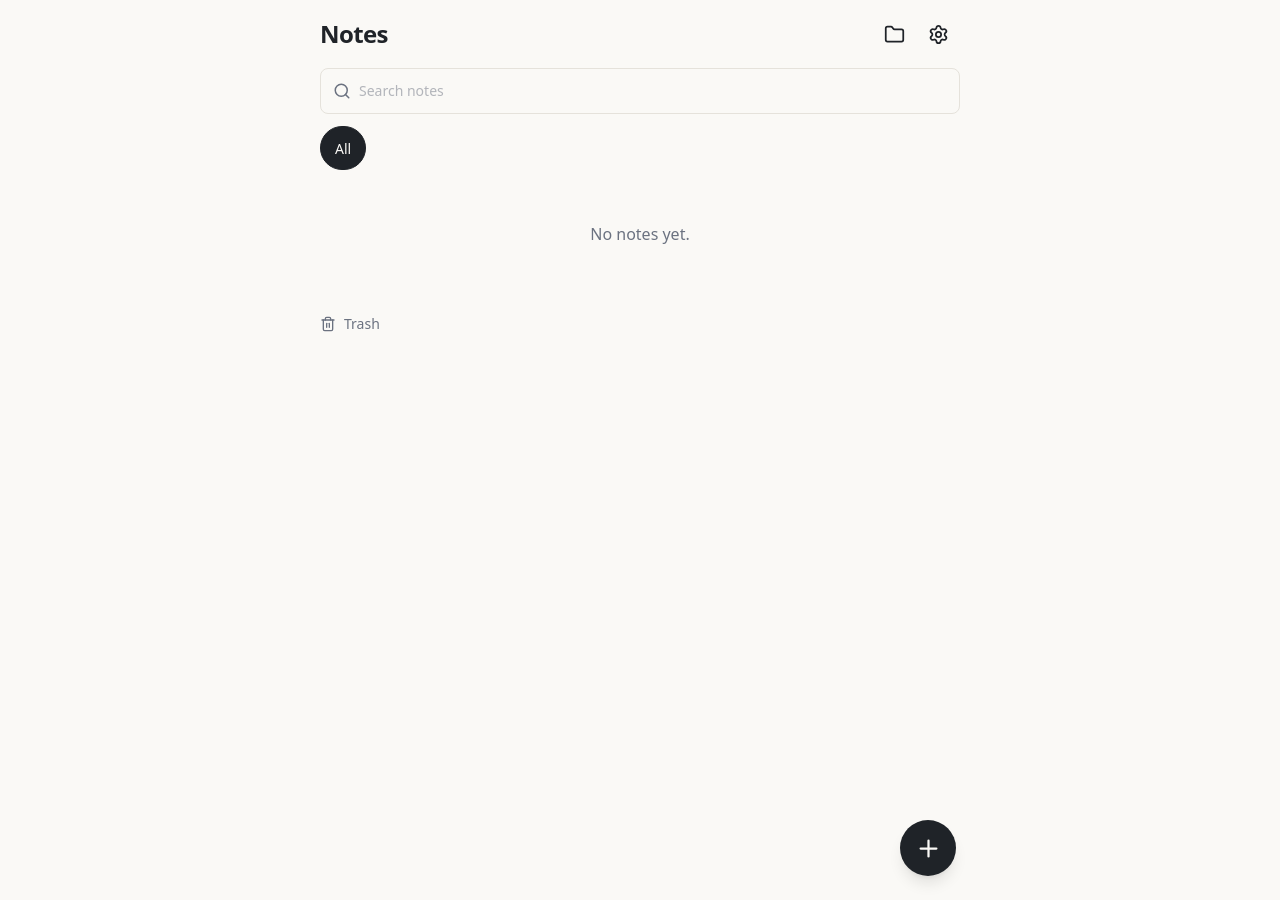
Test case: rolls back style save and deletion if a later preference write fails, and keeps the error visible
Click the button named "Settings" at [938, 34], box top-left (916, 12), bottom-right (960, 56)
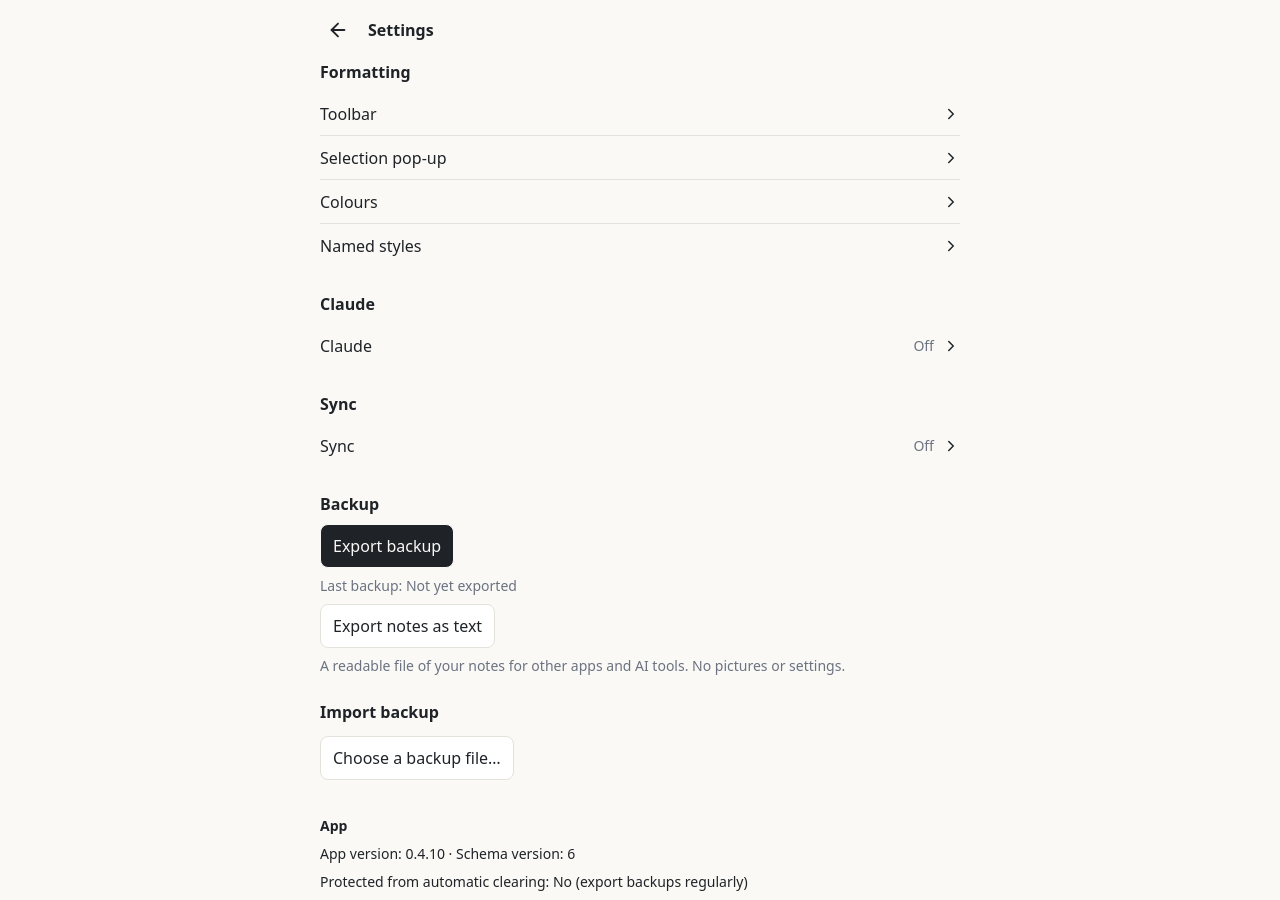
Click the button "Named styles" at [371, 246], box top-left (320, 224), bottom-right (960, 268)
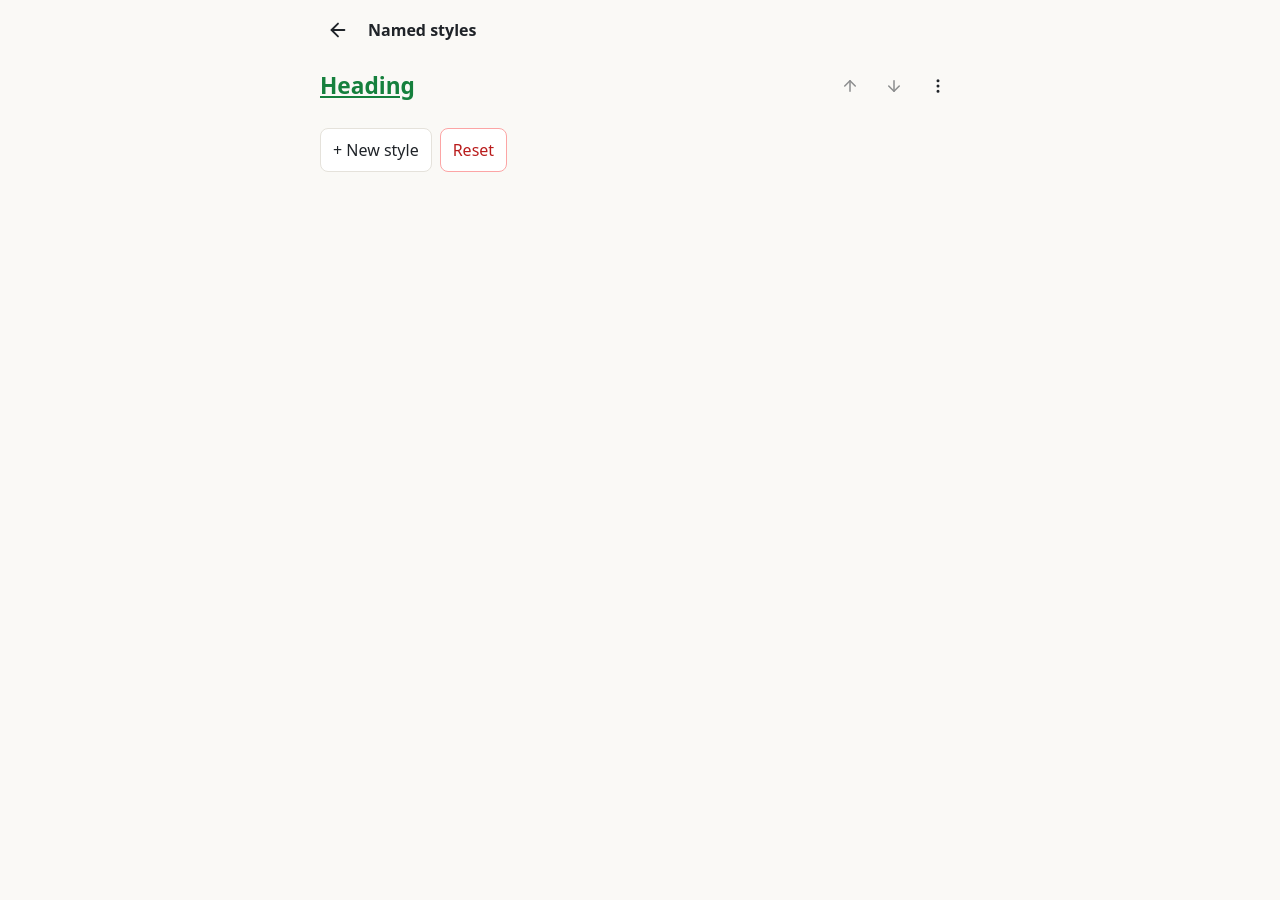
Click the button "+ New style" at [376, 150], box top-left (320, 128), bottom-right (432, 172)
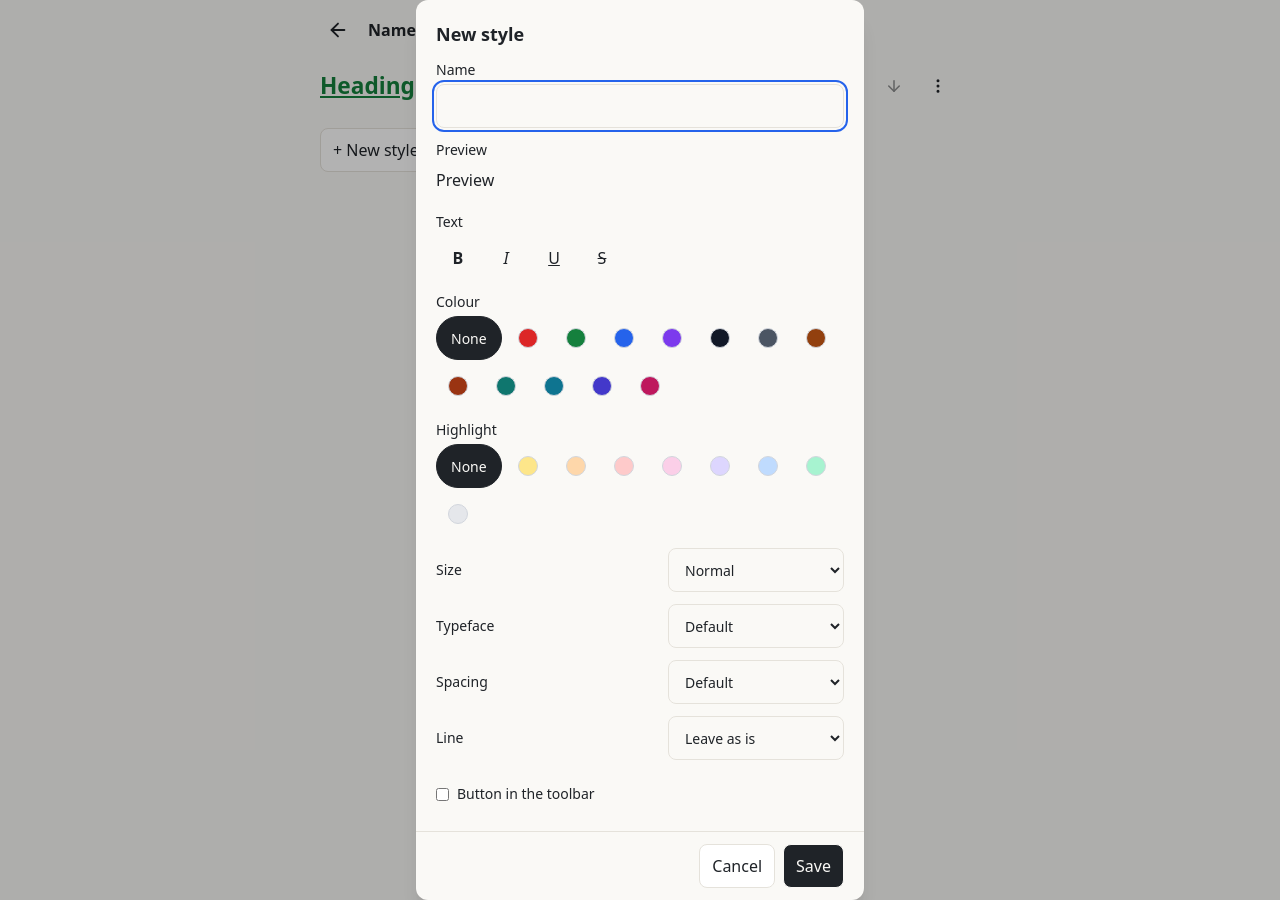
Type "Not saved" into the field labelled "Name" at [640, 106], box top-left (436, 84), bottom-right (844, 128)
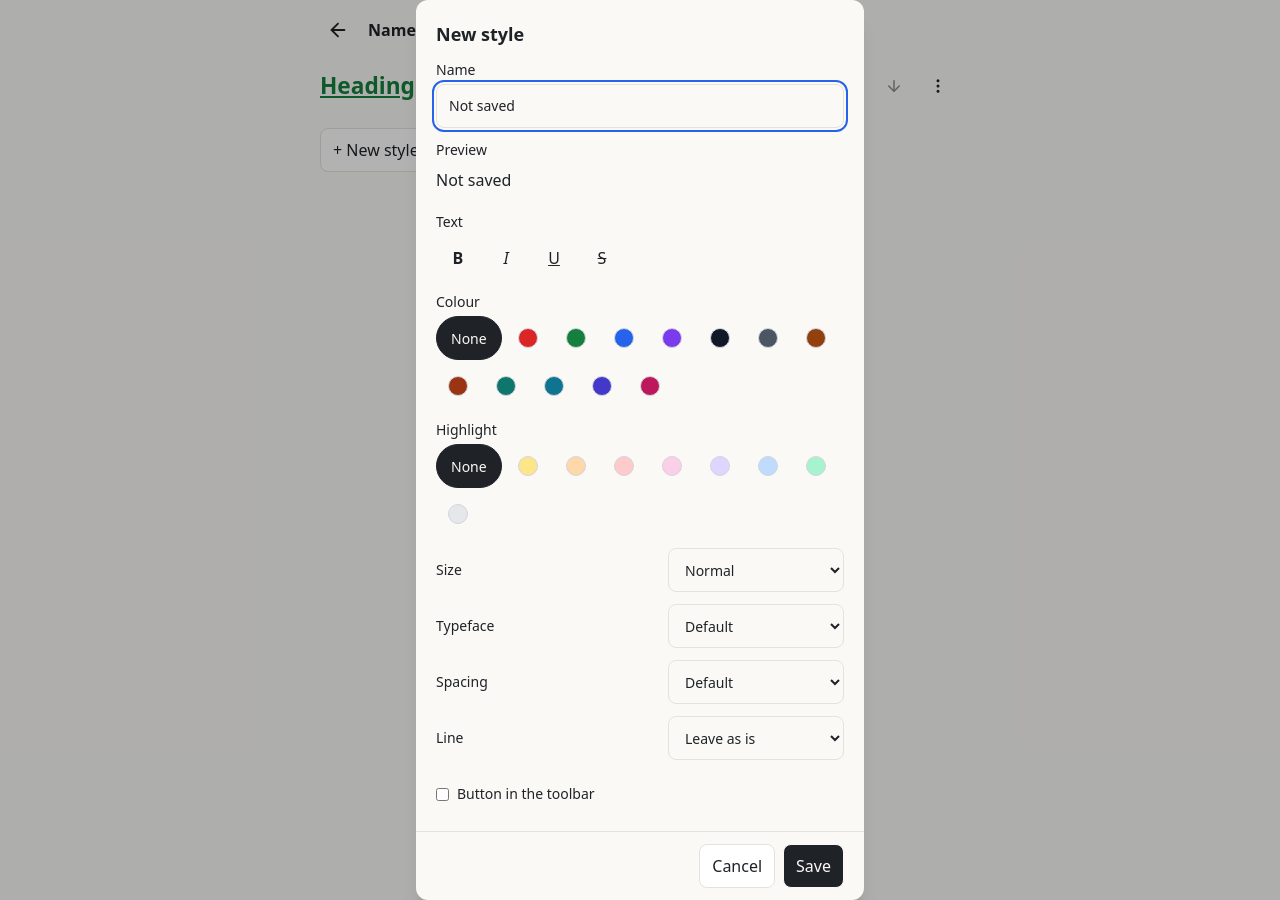
Click the switch at [442, 794], box top-left (436, 788), bottom-right (449, 800)
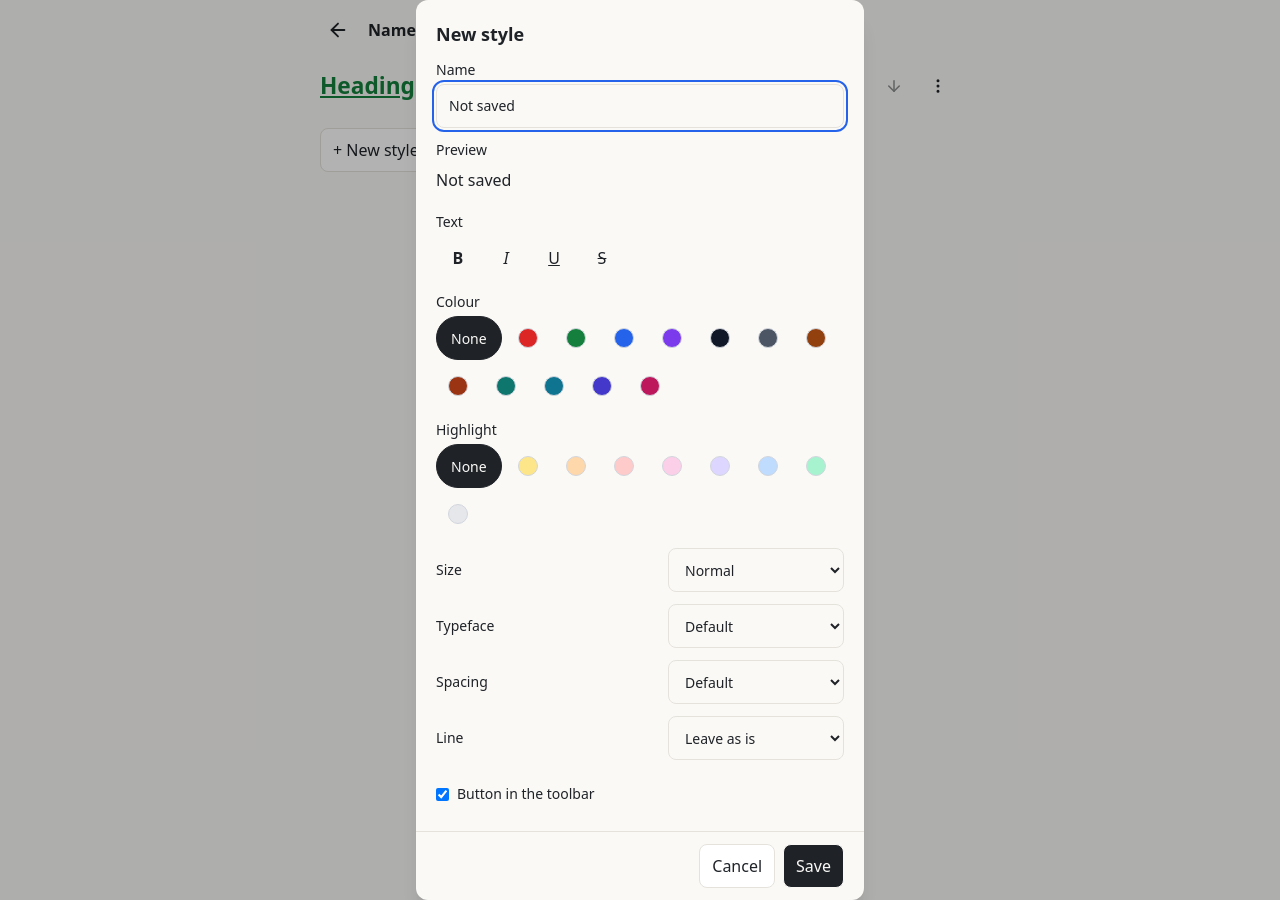
Click the button "Save" at [814, 866], box top-left (783, 844), bottom-right (844, 888)
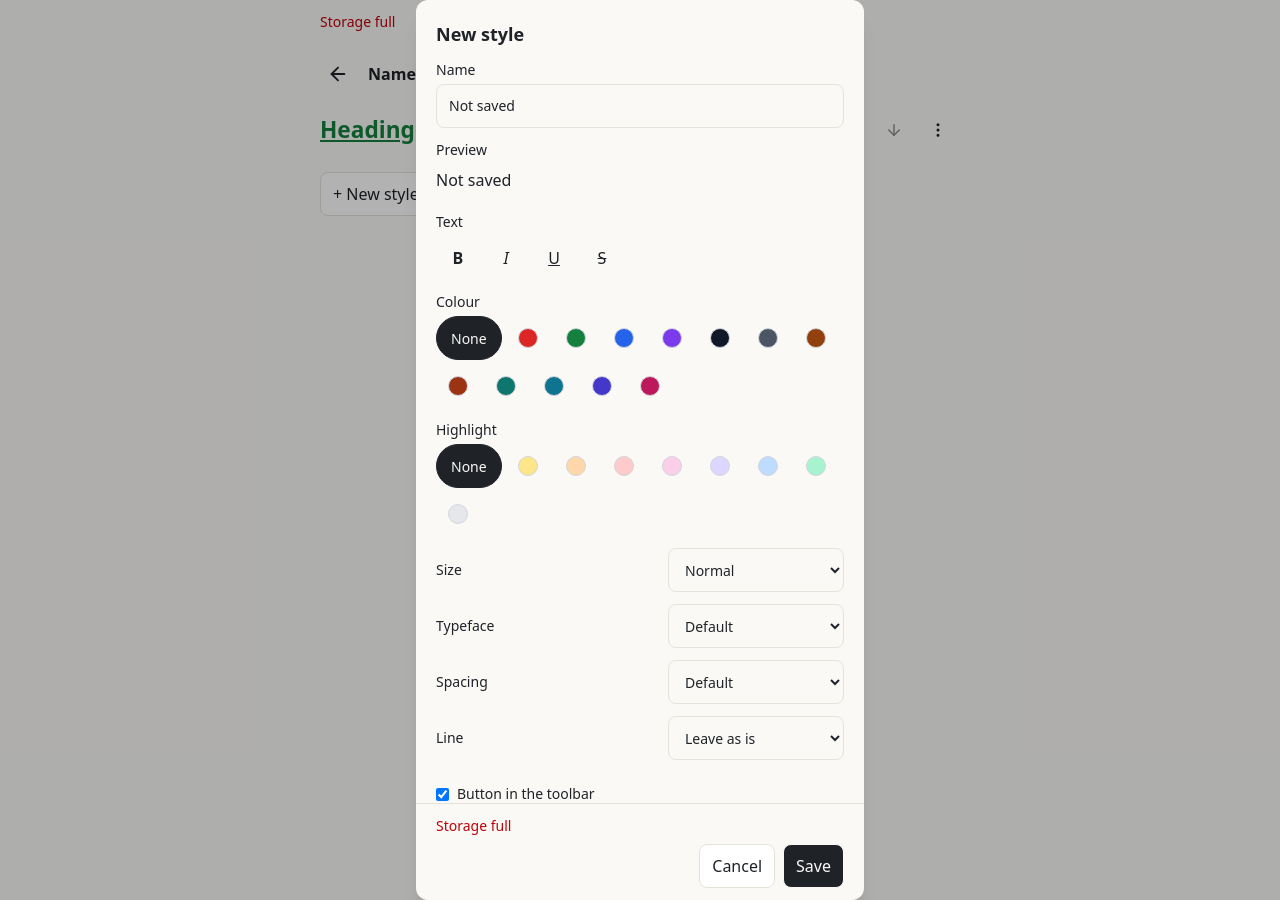
Result: the message reads "Storage full" at top-left (436, 816), bottom-right (511, 835)
